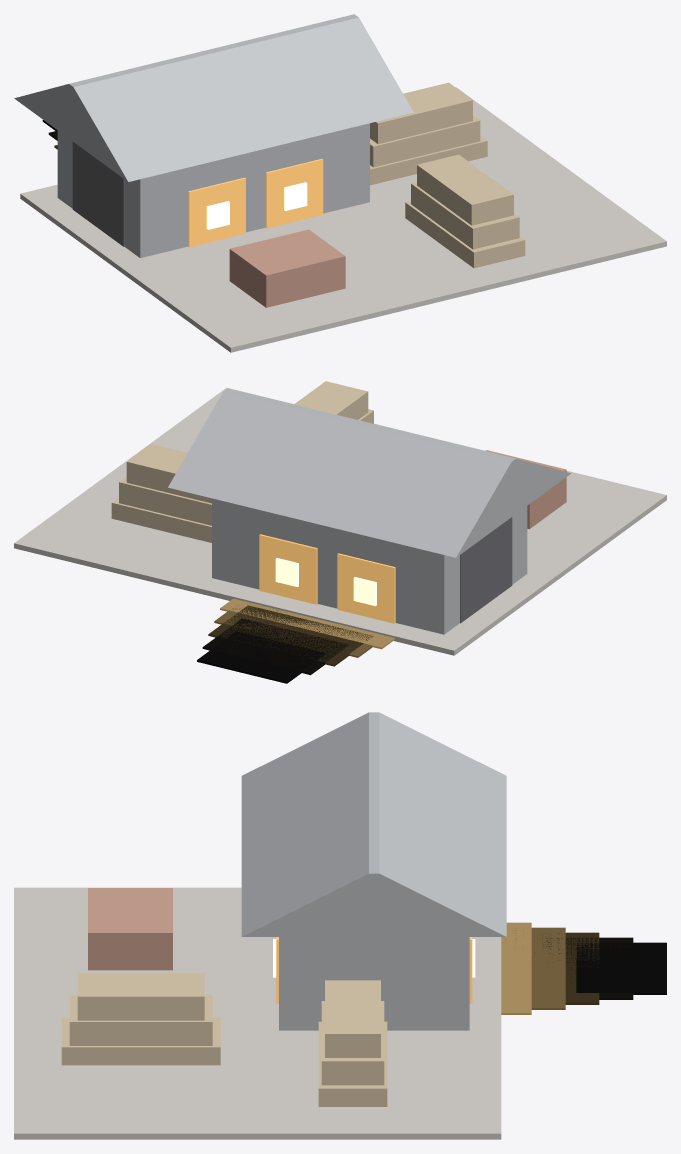
File: plc_builders_merchant.glb
3 renders of one model, top to bottom at view 1: azimuth 30°, elevation 25°; view 2: azimuth 150°, elevation 25°; view 3: azimuth 270°, elevation 25°, orthographic. The views are drawn at different scales.
Visible parts, largest first — view 1: plc_builders_merchant; view 2: plc_builders_merchant; view 3: plc_builders_merchant.
Part boxes in pixels (x1,y1,x2,y2): plc_builders_merchant: (14,14,666,352); plc_builders_merchant: (14,381,666,683); plc_builders_merchant: (14,712,666,1139).
Size of the model in its own units: 1.89 by 0.6324 by 2.1.
